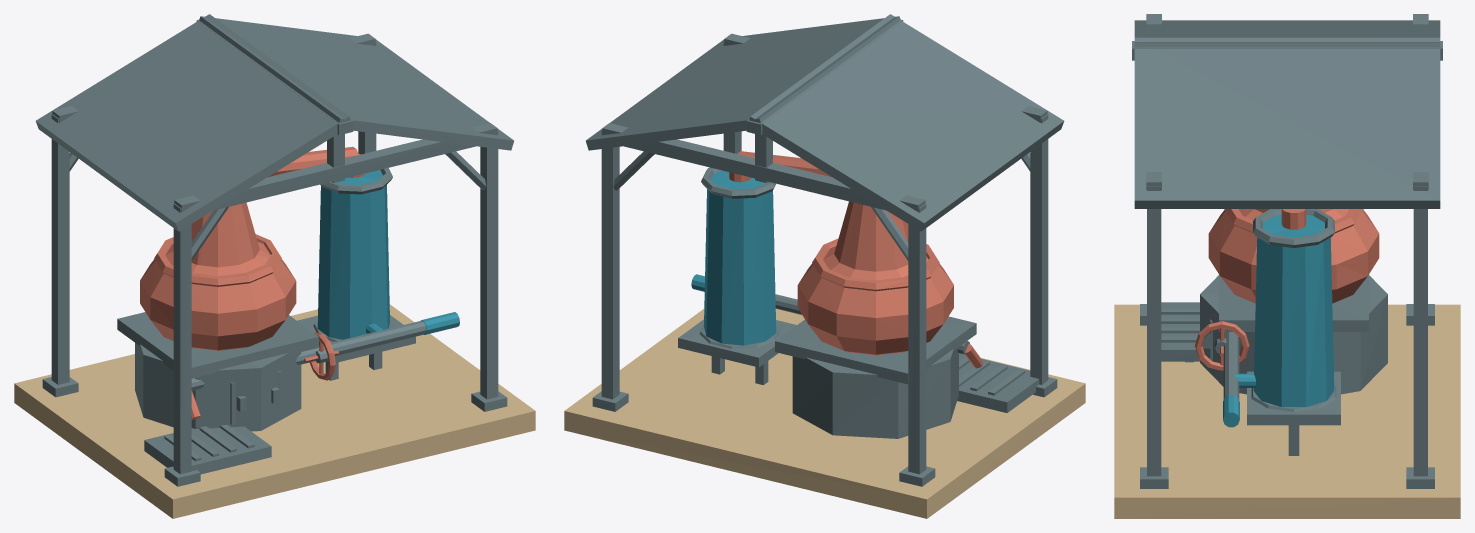
Rendered from distillery.source.glb.
3 renders of one model, left to right at view 1: azimuth 30°, elevation 25°; view 2: azimuth 150°, elevation 25°; view 3: azimuth 270°, elevation 25°, orthographic. The views are drawn at different scales.
Visible parts, largest first — view 1: distillery-cream-stone-pad-mesh, distillery-roof-slope--0.78-mesh, distillery-roof-slope-0.78-mesh, distillery-slim-vertical-condenser-mesh, distillery-faceted-pot-kettle-mesh, distillery-octagonal-furnace-body-mesh, distillery-front-eave-beam-mesh, distillery-front-left-galvanized-post-mesh, distillery-front-right-galvanized-post-mesh, distillery-rear-left-galvanized-post-mesh, distillery-furnace-top-ring-mesh, distillery-tapered-still-neck-mesh (+7 smaller); view 2: distillery-cream-stone-pad-mesh, distillery-roof-slope--0.78-mesh, distillery-roof-slope-0.78-mesh, distillery-slim-vertical-condenser-mesh, distillery-octagonal-furnace-body-mesh, distillery-faceted-pot-kettle-mesh, distillery-rear-eave-beam-mesh, distillery-rear-left-galvanized-post-mesh, distillery-rear-right-galvanized-post-mesh, distillery-furnace-top-ring-mesh, distillery-front-left-galvanized-post-mesh, distillery-tapered-still-neck-mesh (+5 smaller); view 3: distillery-roof-slope-0.78-mesh, distillery-cream-stone-pad-mesh, distillery-slim-vertical-condenser-mesh, distillery-roof-slope--0.78-mesh, distillery-faceted-pot-kettle-mesh, distillery-octagonal-furnace-body-mesh, distillery-front-right-galvanized-post-mesh, distillery-rear-right-galvanized-post-mesh, distillery-furnace-top-ring-mesh, distillery-condenser-support-frame-mesh, distillery-condenser-top-ring-mesh, distillery-empty-output-service-platform-mesh (+11 smaller).
Part boxes in pixels (x1,y1,x2,y2): distillery-cream-stone-pad-mesh: (14,304,535,518); distillery-roof-slope--0.78-mesh: (35,14,350,231); distillery-roof-slope-0.78-mesh: (199,16,513,150); distillery-slim-vertical-condenser-mesh: (317,170,389,339); distillery-faceted-pot-kettle-mesh: (140,242,296,350); distillery-octagonal-furnace-body-mesh: (135,343,301,431); distillery-front-eave-beam-mesh: (174,123,497,212); distillery-front-left-galvanized-post-mesh: (173,203,191,474); distillery-front-right-galvanized-post-mesh: (480,131,498,399); distillery-rear-left-galvanized-post-mesh: (51,114,69,384); distillery-furnace-top-ring-mesh: (117,312,318,378); distillery-tapered-still-neck-mesh: (191,202,259,267); distillery-cream-stone-pad-mesh: (564,309,1085,518); distillery-roof-slope--0.78-mesh: (749,14,1064,231); distillery-roof-slope-0.78-mesh: (586,16,900,150); distillery-slim-vertical-condenser-mesh: (704,170,776,345); distillery-octagonal-furnace-body-mesh: (792,348,958,438); distillery-faceted-pot-kettle-mesh: (797,246,953,355); distillery-rear-eave-beam-mesh: (602,123,925,212); distillery-rear-left-galvanized-post-mesh: (908,203,926,474); distillery-rear-right-galvanized-post-mesh: (601,131,619,399); distillery-furnace-top-ring-mesh: (775,316,976,384); distillery-front-left-galvanized-post-mesh: (1030,114,1048,384); distillery-tapered-still-neck-mesh: (834,201,908,271); distillery-roof-slope-0.78-mesh: (1134,37,1440,208); distillery-cream-stone-pad-mesh: (1114,304,1460,518); distillery-slim-vertical-condenser-mesh: (1253,215,1334,406); distillery-roof-slope--0.78-mesh: (1134,20,1440,47); distillery-faceted-pot-kettle-mesh: (1208,209,1379,303); distillery-octagonal-furnace-body-mesh: (1200,275,1387,394); distillery-front-right-galvanized-post-mesh: (1147,186,1161,476); distillery-rear-right-galvanized-post-mesh: (1413,186,1427,476); distillery-furnace-top-ring-mesh: (1219,275,1368,331); distillery-condenser-support-frame-mesh: (1247,371,1340,425); distillery-condenser-top-ring-mesh: (1253,209,1334,247); distillery-empty-output-service-platform-mesh: (1161,302,1199,361).
Size of the model in its own units: 3.5 by 3.23 by 2.65.
